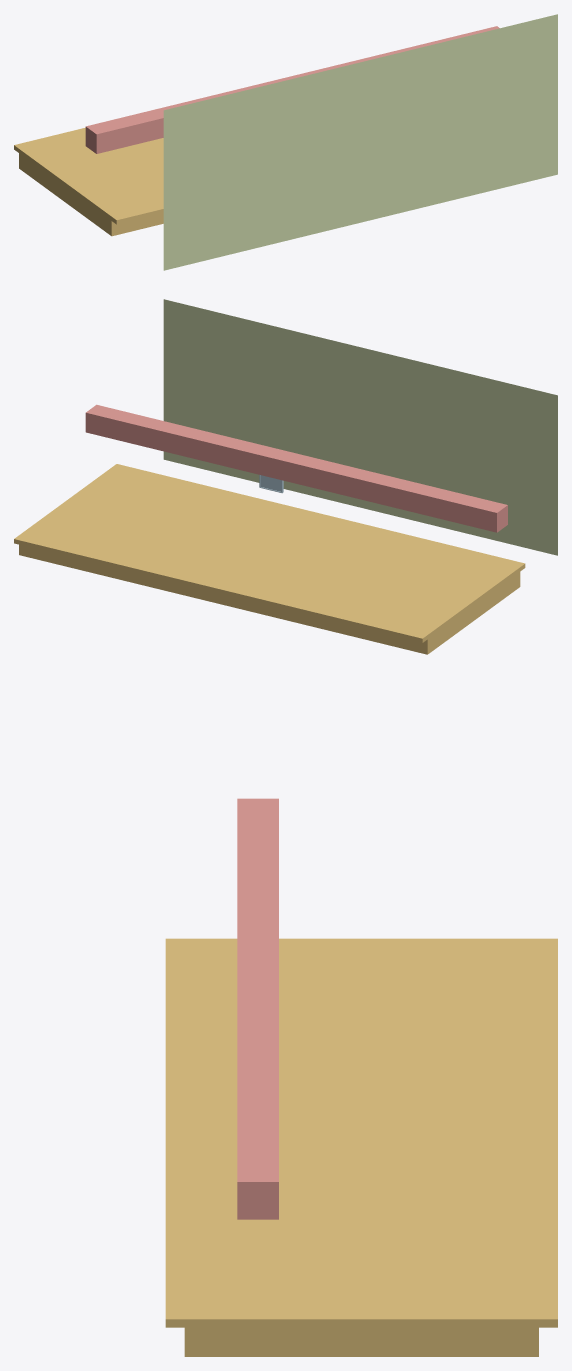
File: station-wider-00.glb
3 renders of one model, top to bottom at view 1: azimuth 30°, elevation 25°; view 2: azimuth 150°, elevation 25°; view 3: azimuth 270°, elevation 25°, orthographic. The views are drawn at different scales.
Parts seen in each view (by area): view 1: Wall-Plane, Platform, Roof.002; view 2: Wall-Plane, Platform, Roof.002; view 3: Platform, Roof.002.
Part boxes in pixels (x1=…): Wall-Plane: x1=163, y1=14, x2=557, y2=270; Platform: x1=14, y1=127, x2=163, y2=236; Roof.002: x1=85, y1=26, x2=499, y2=153; Wall-Plane: x1=163, y1=299, x2=557, y2=555; Platform: x1=14, y1=464, x2=525, y2=654; Roof.002: x1=85, y1=404, x2=507, y2=532; Platform: x1=165, y1=938, x2=557, y2=1356; Roof.002: x1=237, y1=798, x2=278, y2=1219.
Size of the model in its own units: 43.58 by 16.24 by 26.14.
